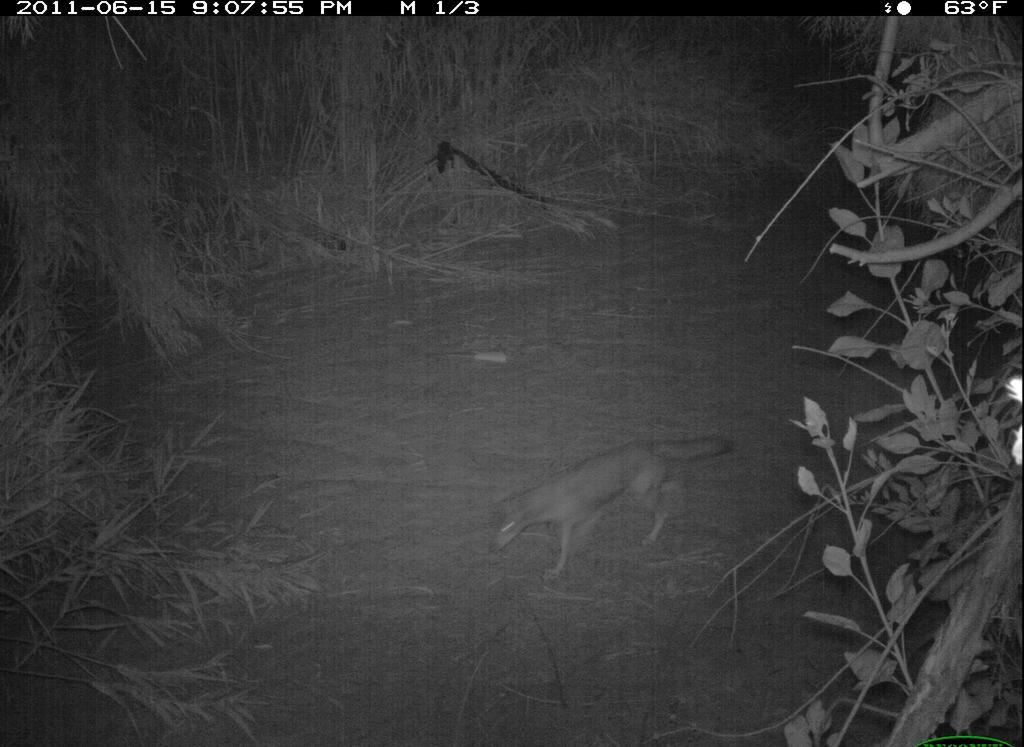coyote: (484, 423, 743, 587)
